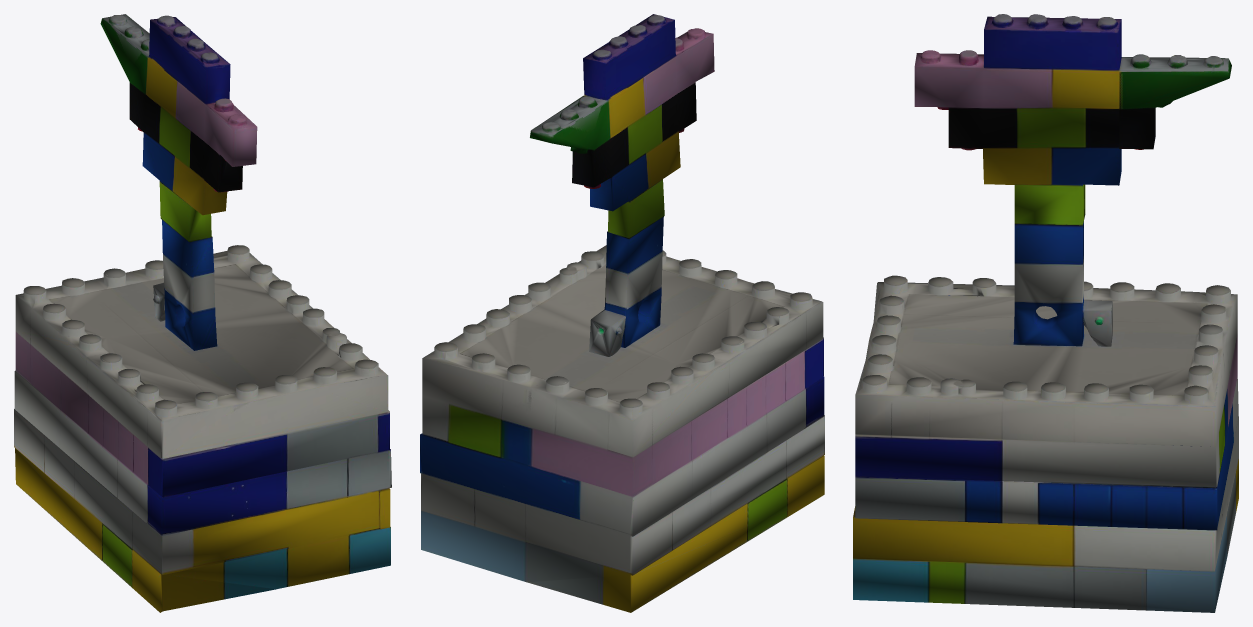
The model's file is object_34_asset_96a84c41.glb.
3 renders of one model, left to right at view 1: azimuth 30°, elevation 25°; view 2: azimuth 150°, elevation 25°; view 3: azimuth 270°, elevation 25°, orthographic. The views are drawn at different scales.
Visible parts, largest first — view 1: tripo_node_07003345-27f8-46a6-9773-e6b965c03377; view 2: tripo_node_07003345-27f8-46a6-9773-e6b965c03377; view 3: tripo_node_07003345-27f8-46a6-9773-e6b965c03377.
Part boxes in pixels (<box>): tripo_node_07003345-27f8-46a6-9773-e6b965c03377: <box>14,14,391,612</box>; tripo_node_07003345-27f8-46a6-9773-e6b965c03377: <box>420,14,824,612</box>; tripo_node_07003345-27f8-46a6-9773-e6b965c03377: <box>853,14,1238,612</box>.
Size of the model in its own units: 0.5176 by 0.998 by 0.6621.
1 material, 1 textured.
